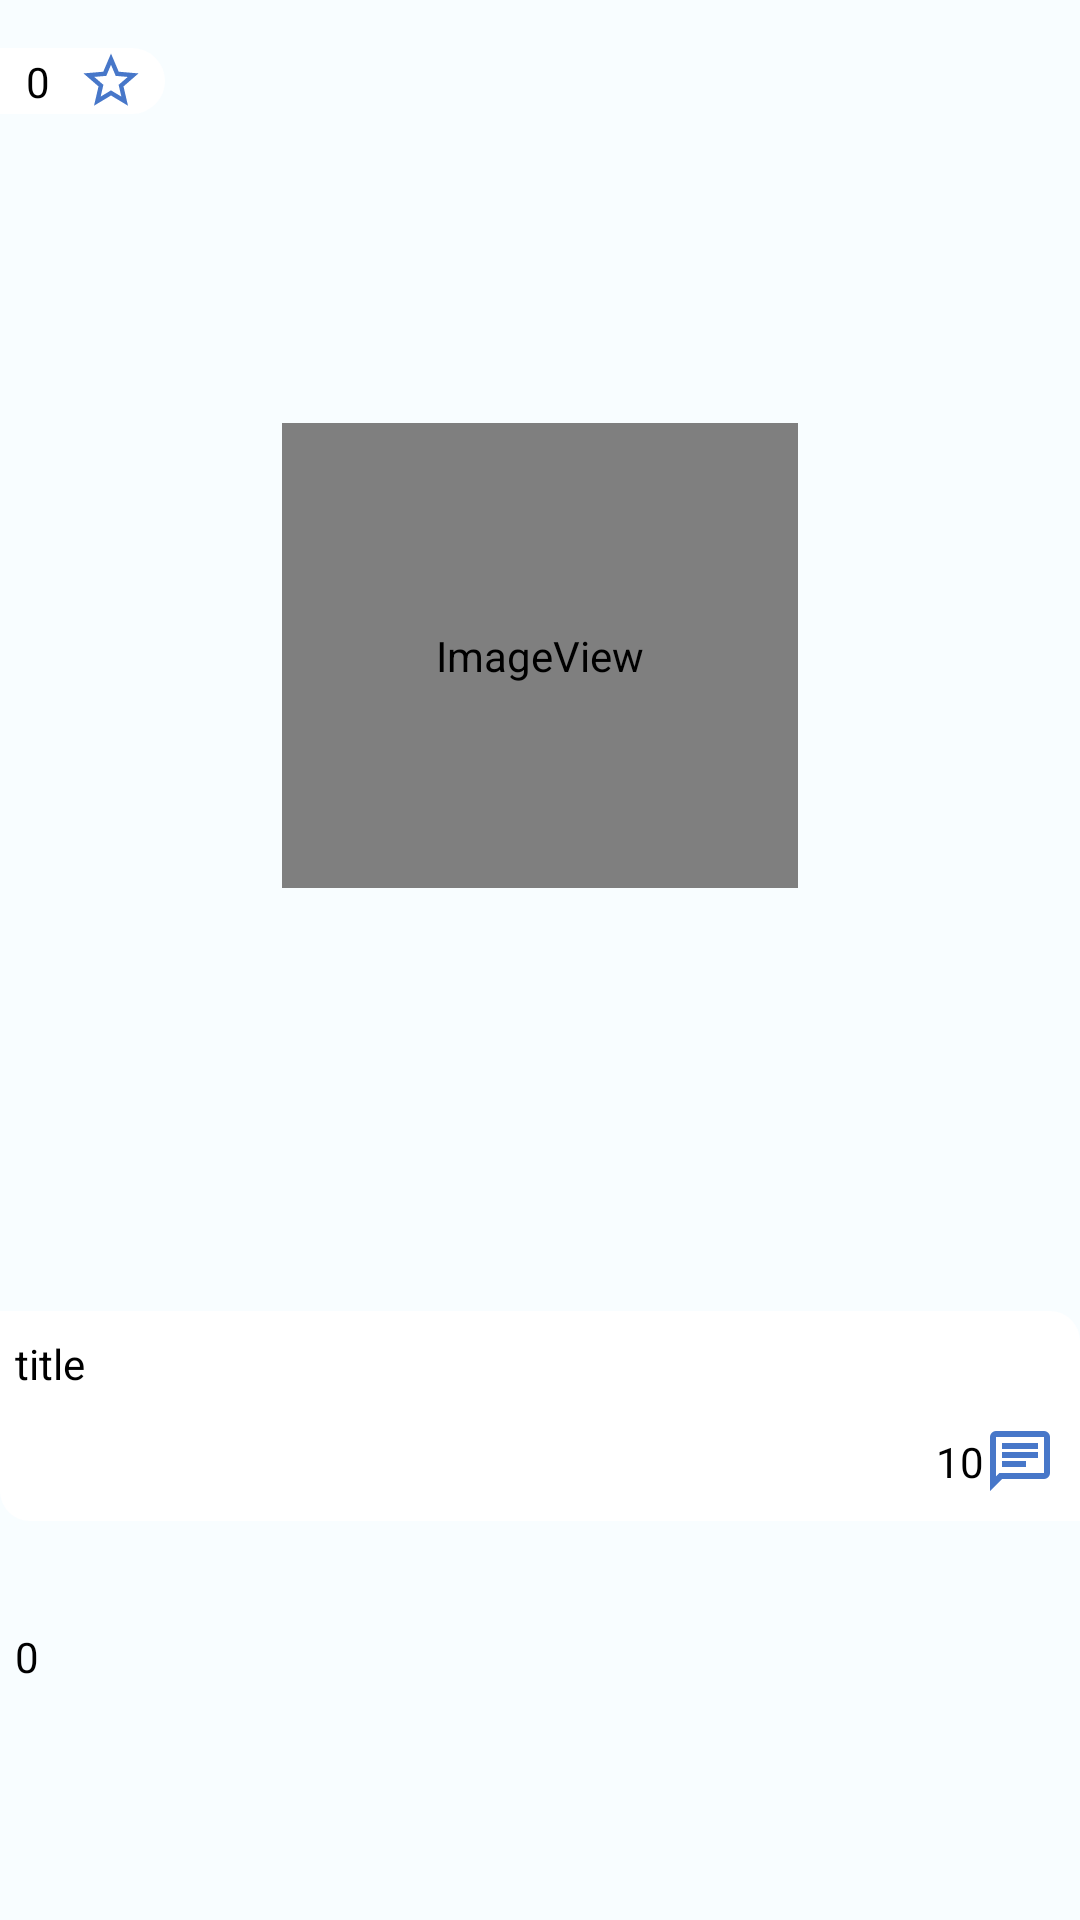

Named icons in this screenshot (1080 × 1920) and their centers, point (x, y):
star: point (111, 80)
